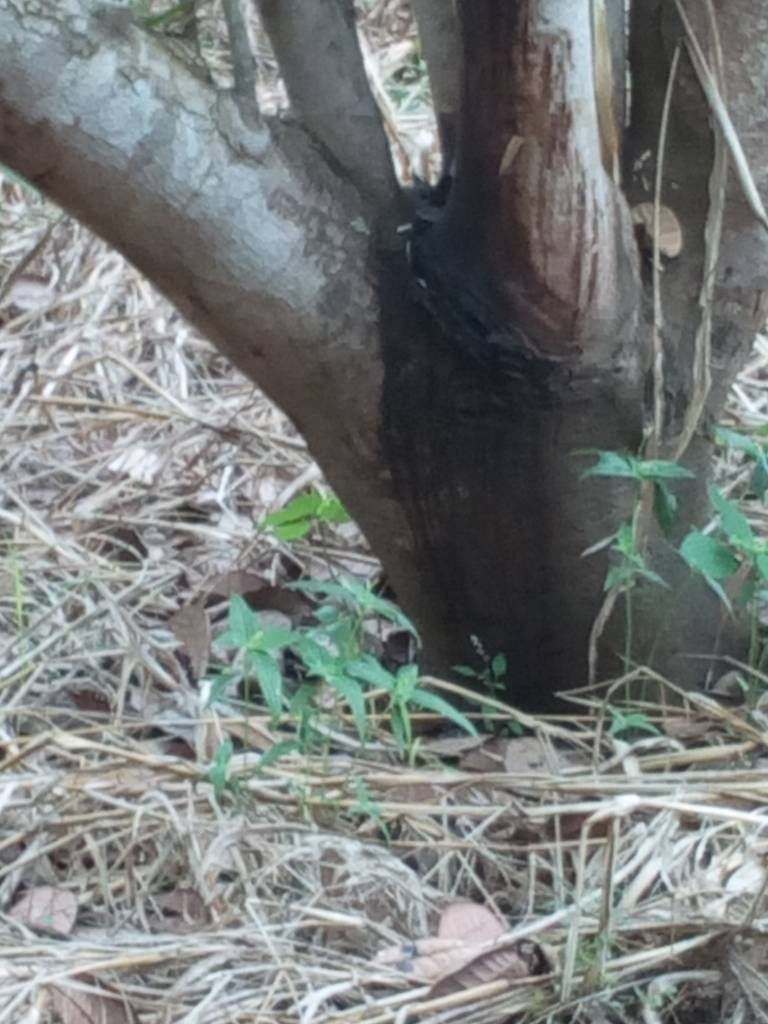Gommose: (361, 202, 577, 586)
